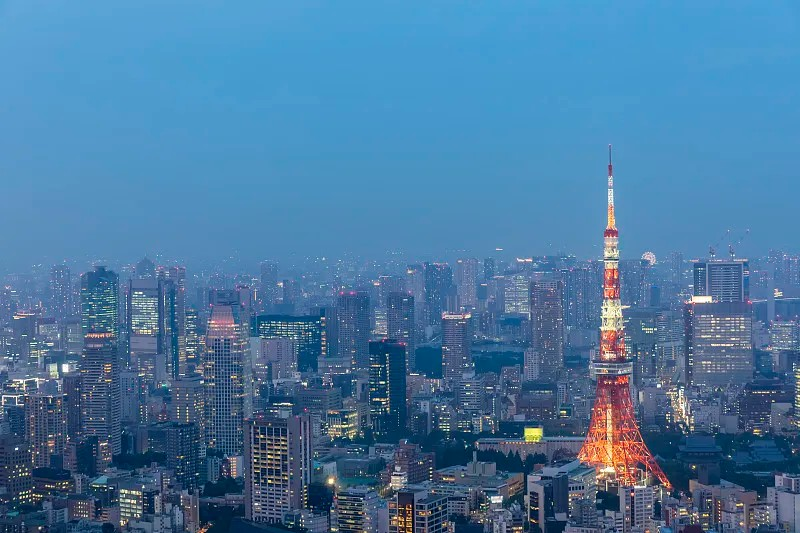Tokyo: (575, 143, 672, 489)
